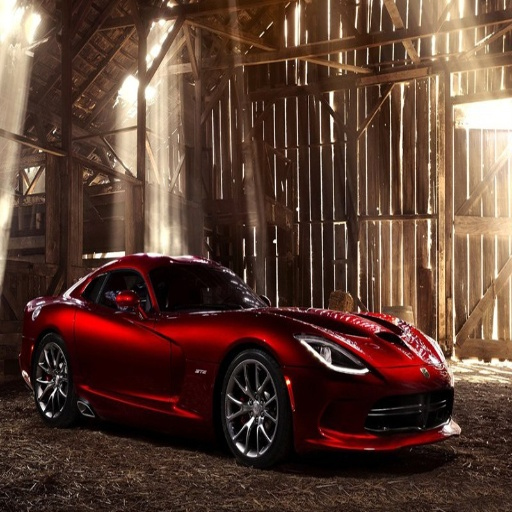front_bumper: (296, 415, 413, 450)
front_glass: (168, 265, 249, 308)
trunk: (370, 351, 441, 388)
